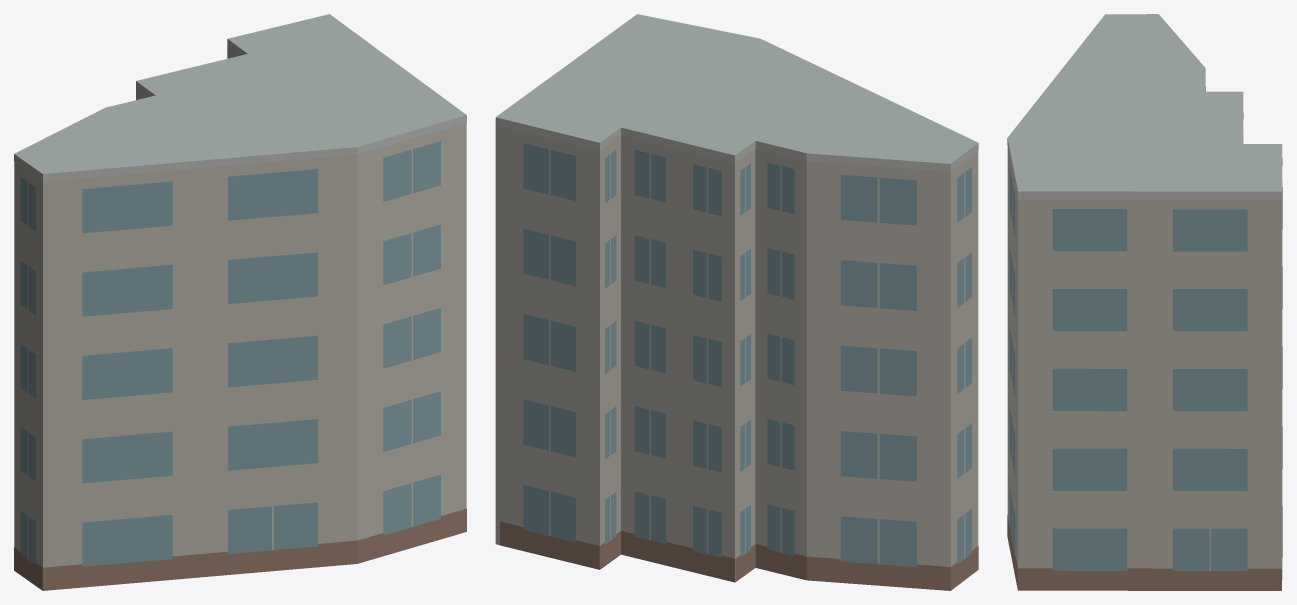
File: survey-upis-32906649.glb
3 views of the same model, side by side, from view 1: azimuth 30°, elevation 25°; view 2: azimuth 150°, elevation 25°; view 3: azimuth 270°, elevation 25° (orthographic). The views are drawn at different scales.
Parts seen in each view (by area): view 1: survey-upis-32906649.tmp; view 2: survey-upis-32906649.tmp; view 3: survey-upis-32906649.tmp.
Boxes of the visible parts, left/top/right/bottom form: survey-upis-32906649.tmp: left=14, top=14, right=466, bottom=590; survey-upis-32906649.tmp: left=495, top=14, right=978, bottom=590; survey-upis-32906649.tmp: left=1007, top=14, right=1282, bottom=590.
Size of the model in its own units: 12.75 by 13.35 by 8.34.
